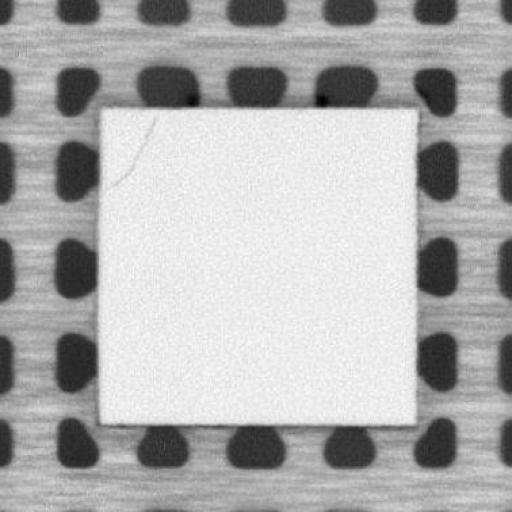DIE_CRACK: (108, 114, 160, 188)
